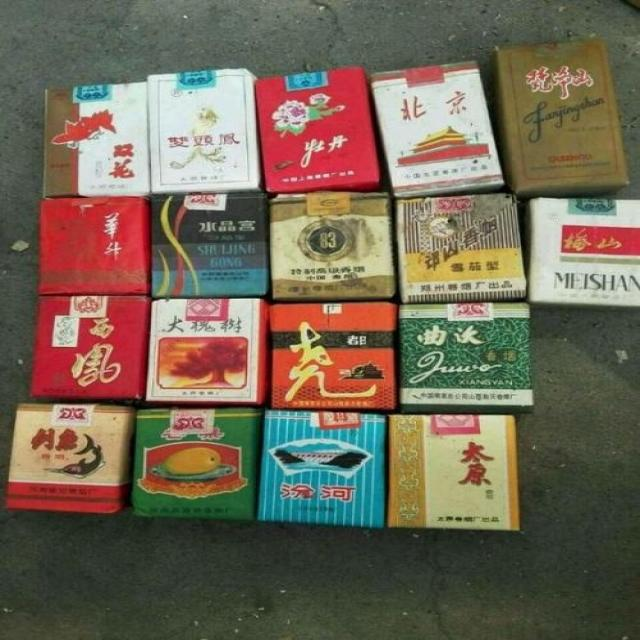box: (495, 46, 627, 199), (367, 59, 507, 200), (256, 65, 383, 192), (256, 408, 388, 529), (387, 413, 520, 530), (396, 193, 529, 304), (398, 302, 532, 412), (145, 69, 261, 193), (133, 409, 260, 520), (270, 191, 398, 299), (5, 404, 132, 511), (269, 301, 394, 408), (146, 298, 269, 405), (28, 295, 150, 399), (44, 80, 151, 198), (526, 198, 640, 308), (154, 192, 268, 298), (38, 198, 150, 296)
